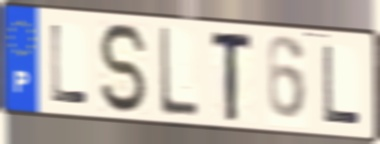6: (266, 31, 309, 130)
L: (157, 25, 200, 121), (320, 43, 363, 128), (48, 21, 89, 106)
S: (96, 20, 151, 117)
T: (209, 31, 255, 125)
